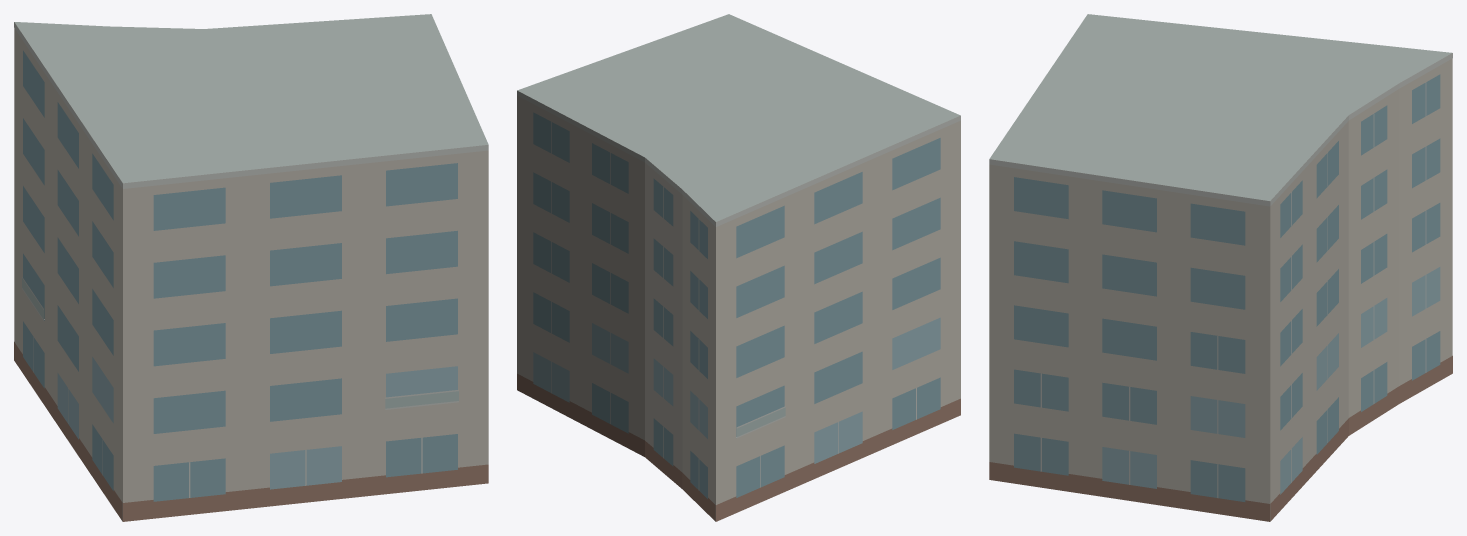
File: survey-upis-32779530.glb
3 views of the same model, side by side, from view 1: azimuth 30°, elevation 25°; view 2: azimuth 150°, elevation 25°; view 3: azimuth 270°, elevation 25° (orthographic). The views are drawn at different scales.
Parts seen in each view (by area): view 1: survey-upis-32779530.tmp; view 2: survey-upis-32779530.tmp; view 3: survey-upis-32779530.tmp.
Boxes of the visible parts, <box> form: survey-upis-32779530.tmp: <box>14,14,488,521</box>; survey-upis-32779530.tmp: <box>517,14,960,521</box>; survey-upis-32779530.tmp: <box>989,14,1452,521</box>.
Bounding box in the file's own units: 18.12 × 14.47 × 18.96.
